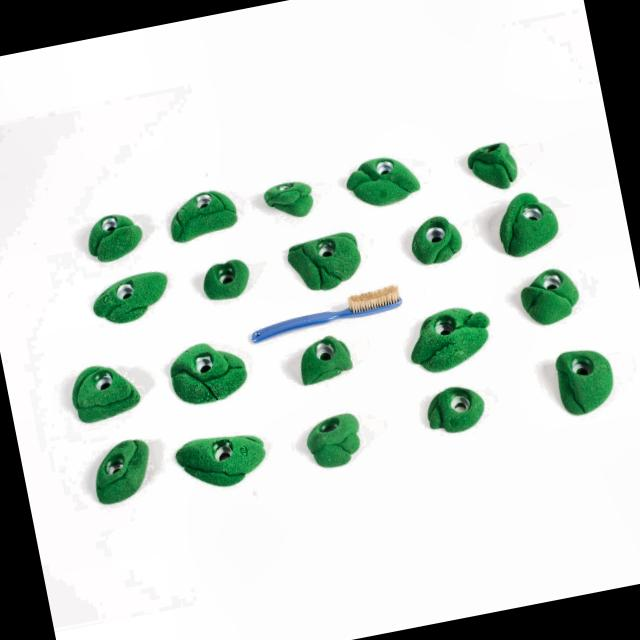Hold: (170, 422, 282, 499), (399, 296, 500, 376), (158, 333, 256, 406), (277, 222, 373, 296), (546, 334, 622, 418), (83, 434, 159, 512), (64, 352, 142, 424), (338, 150, 422, 215), (84, 268, 178, 326), (492, 186, 566, 258), (252, 170, 332, 235), (162, 180, 244, 242), (508, 262, 586, 327), (422, 376, 494, 439), (78, 204, 148, 266), (290, 329, 358, 392), (298, 406, 361, 472), (462, 136, 526, 196), (192, 253, 254, 305), (404, 214, 464, 267)
